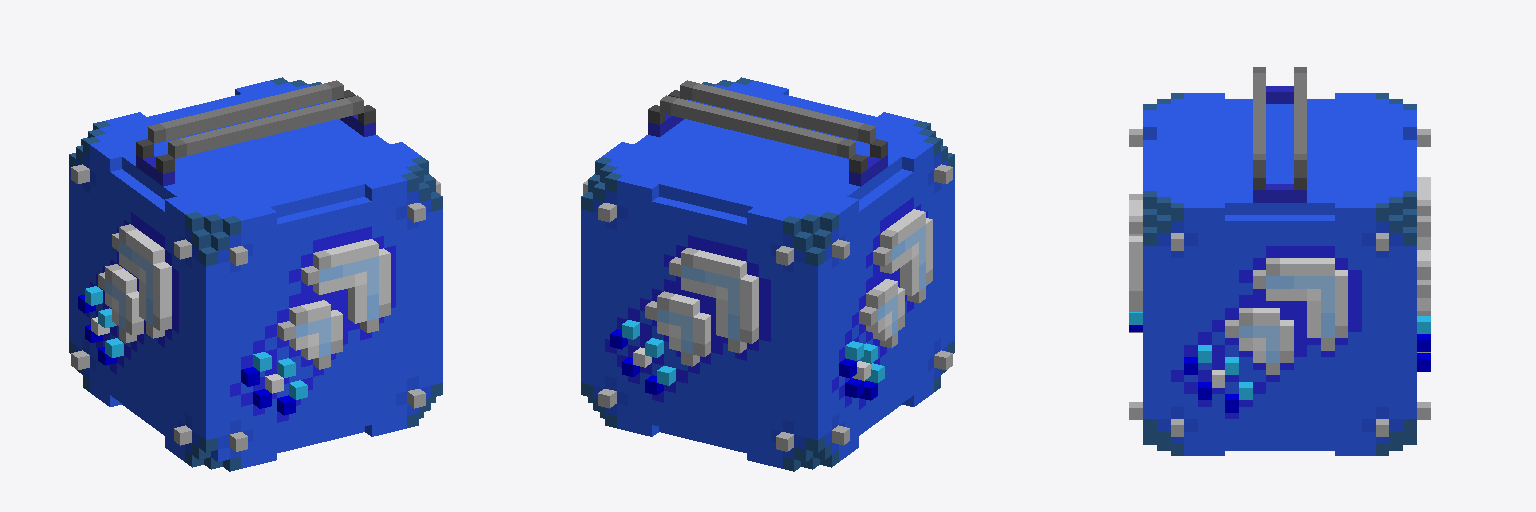
3 views of the same model, side by side, from view 1: azimuth 30°, elevation 25°; view 2: azimuth 150°, elevation 25°; view 3: azimuth 270°, elevation 25° (orthographic).
Parts seen in each view (by area): view 1: object 1; view 2: object 1; view 3: object 1.
Boxes of the visible parts, x1=… form: object 1: x1=69, y1=77, x2=442, y2=471; object 1: x1=581, y1=77, x2=954, y2=471; object 1: x1=1129, y1=67, x2=1430, y2=455.
Bounding box in the file's own units: 2.2 × 2.3 × 2.2.
Materials: 1 (1 with a texture image).